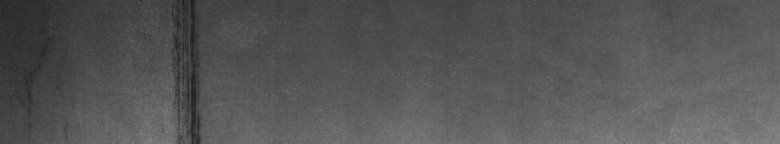ka: (166, 4, 208, 136)
